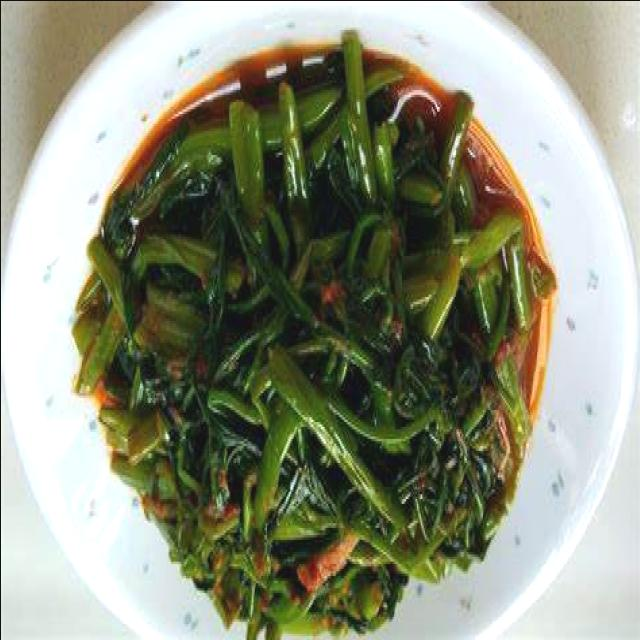tumis kangkung: (66, 22, 575, 640)
